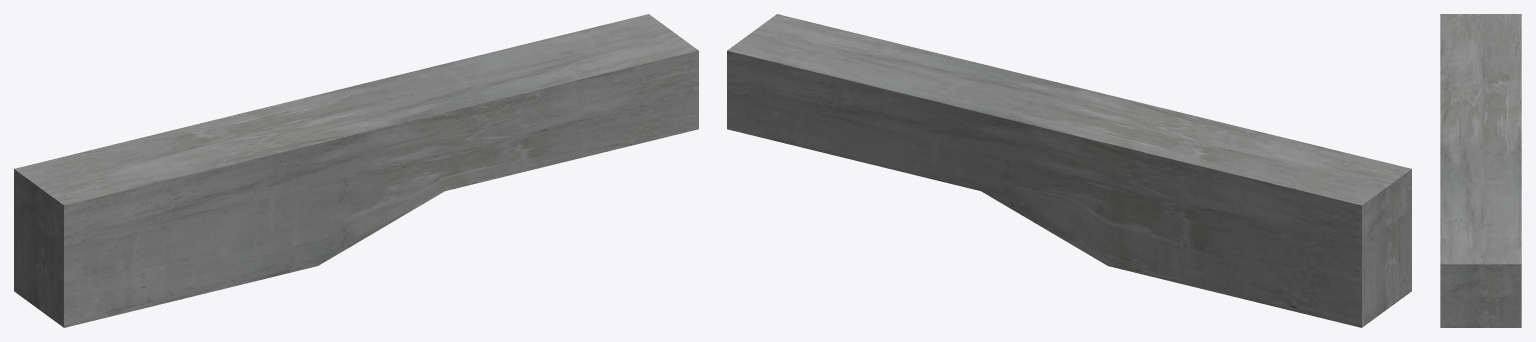
File: stage2_STONE.fbx
3 renders of one model, left to right at view 1: azimuth 30°, elevation 25°; view 2: azimuth 150°, elevation 25°; view 3: azimuth 270°, elevation 25°, orthographic. The views are drawn at different scales.
Visible parts, largest first — view 1: 天井003; view 2: 天井003; view 3: 天井003.
Boxes of the visible parts, x1,y1,x2,y2 form: 天井003: [14, 14, 698, 327]; 天井003: [727, 14, 1411, 327]; 天井003: [1440, 14, 1521, 327].
Size of the model in its own units: 183 by 33.69 by 25.
